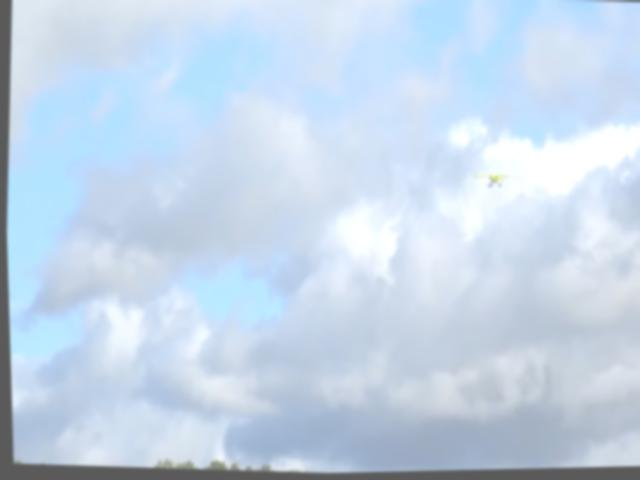plane: (471, 173, 518, 192)
